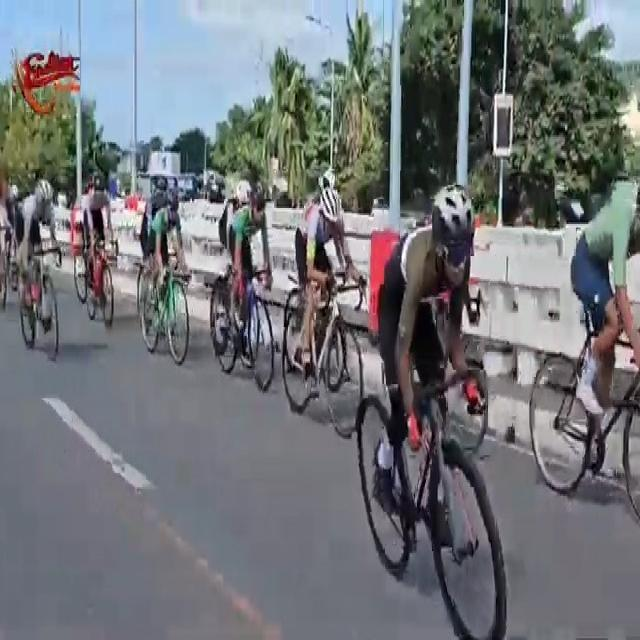bike: (354, 186, 510, 640), (527, 178, 640, 524), (278, 193, 366, 440), (212, 186, 274, 399), (285, 171, 344, 386), (139, 188, 194, 374), (16, 178, 60, 360), (88, 176, 116, 326), (74, 182, 103, 300), (0, 183, 22, 310)
